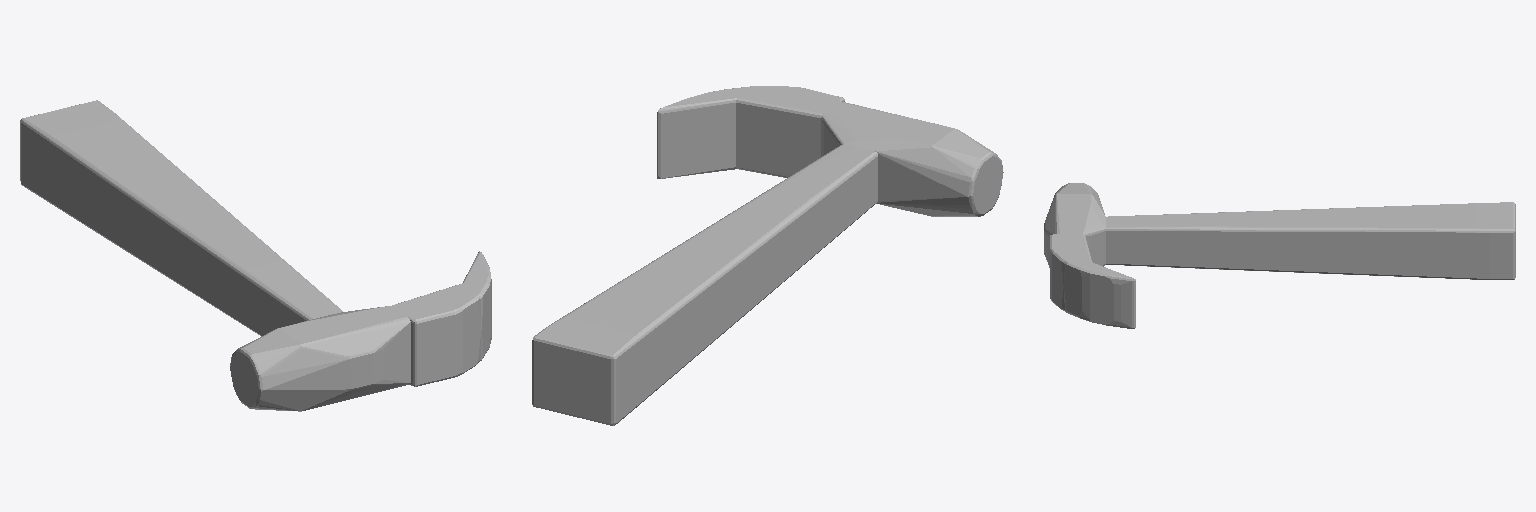
robot.urdf — root:
<robot name="root">
  <link name="link_coacd_convex_piece_0">
    <inertial>
      <origin xyz="0 0 0" rpy="0 0 0"/>
      <inertia ixx="1.12E-02" ixy="-1.80E-07" ixz="-1.51E-03" iyy="1.14E-02" iyz="-2.88E-07" izz="4.84E-04"/>
    </inertial>
    <visual>
      <origin xyz="0 0 0" rpy="0 0 0"/>
      <geometry>
        <mesh filename="coacd_convex_piece_0.obj" scale="1.0000E+00 1.0000E+00 1.0000E+00"/>
      </geometry>
      <material name="">
        <color rgba="7.50E-01 7.50E-01 7.50E-01 1"/>
      </material>
    </visual>
    <collision>
      <origin xyz="0 0 0" rpy="0 0 0"/>
      <geometry>
        <mesh filename="coacd_convex_piece_0.obj" scale="1.0000E+00 1.0000E+00 1.0000E+00"/>
      </geometry>
    </collision>
  </link>
  <link name="link_coacd_convex_piece_1">
    <inertial>
      <origin xyz="0 0 0" rpy="0 0 0"/>
      <inertia ixx="1.24E-03" ixy="2.74E-08" ixz="-6.75E-04" iyy="1.57E-03" iyz="5.83E-08" izz="3.50E-04"/>
    </inertial>
    <visual>
      <origin xyz="0 0 0" rpy="0 0 0"/>
      <geometry>
        <mesh filename="coacd_convex_piece_1.obj" scale="1.0000E+00 1.0000E+00 1.0000E+00"/>
      </geometry>
      <material name="">
        <color rgba="7.50E-01 7.50E-01 7.50E-01 1"/>
      </material>
    </visual>
    <collision>
      <origin xyz="0 0 0" rpy="0 0 0"/>
      <geometry>
        <mesh filename="coacd_convex_piece_1.obj" scale="1.0000E+00 1.0000E+00 1.0000E+00"/>
      </geometry>
    </collision>
  </link>
  <joint name="link_coacd_convex_piece_1_joint" type="fixed">
    <origin xyz="0 0 0" rpy="0 0 0"/>
    <parent link="link_coacd_convex_piece_0"/>
    <child link="link_coacd_convex_piece_1"/>
  </joint>
  <link name="link_coacd_convex_piece_2">
    <inertial>
      <origin xyz="0 0 0" rpy="0 0 0"/>
      <inertia ixx="3.70E-03" ixy="-3.37E-08" ixz="-8.25E-04" iyy="3.82E-03" iyz="4.25E-08" izz="1.72E-04"/>
    </inertial>
    <visual>
      <origin xyz="0 0 0" rpy="0 0 0"/>
      <geometry>
        <mesh filename="coacd_convex_piece_2.obj" scale="1.0000E+00 1.0000E+00 1.0000E+00"/>
      </geometry>
      <material name="">
        <color rgba="7.50E-01 7.50E-01 7.50E-01 1"/>
      </material>
    </visual>
    <collision>
      <origin xyz="0 0 0" rpy="0 0 0"/>
      <geometry>
        <mesh filename="coacd_convex_piece_2.obj" scale="1.0000E+00 1.0000E+00 1.0000E+00"/>
      </geometry>
    </collision>
  </link>
  <joint name="link_coacd_convex_piece_2_joint" type="fixed">
    <origin xyz="0 0 0" rpy="0 0 0"/>
    <parent link="link_coacd_convex_piece_1"/>
    <child link="link_coacd_convex_piece_2"/>
  </joint>
  <link name="link_coacd_convex_piece_3">
    <inertial>
      <origin xyz="0 0 0" rpy="0 0 0"/>
      <inertia ixx="9.19E-03" ixy="5.22E-07" ixz="2.23E-03" iyy="9.87E-03" iyz="-1.47E-06" izz="7.79E-04"/>
    </inertial>
    <visual>
      <origin xyz="0 0 0" rpy="0 0 0"/>
      <geometry>
        <mesh filename="coacd_convex_piece_3.obj" scale="1.0000E+00 1.0000E+00 1.0000E+00"/>
      </geometry>
      <material name="">
        <color rgba="7.50E-01 7.50E-01 7.50E-01 1"/>
      </material>
    </visual>
    <collision>
      <origin xyz="0 0 0" rpy="0 0 0"/>
      <geometry>
        <mesh filename="coacd_convex_piece_3.obj" scale="1.0000E+00 1.0000E+00 1.0000E+00"/>
      </geometry>
    </collision>
  </link>
  <joint name="link_coacd_convex_piece_3_joint" type="fixed">
    <origin xyz="0 0 0" rpy="0 0 0"/>
    <parent link="link_coacd_convex_piece_2"/>
    <child link="link_coacd_convex_piece_3"/>
  </joint>
</robot>

--- Facts derived from the render (not from the file) ---
Views: 3 orthographic renders of the robot side by side, from view 1: azimuth 30°, elevation 25°; view 2: azimuth 150°, elevation 25°; view 3: azimuth 270°, elevation 25°.
Robot: root — 4 links, 3 joints (3 fixed); root link link_coacd_convex_piece_0; default pose: every joint at zero.
Links seen in each view (by area): view 1: link_coacd_convex_piece_0, link_coacd_convex_piece_3, link_coacd_convex_piece_2, link_coacd_convex_piece_1; view 2: link_coacd_convex_piece_0, link_coacd_convex_piece_3, link_coacd_convex_piece_2, link_coacd_convex_piece_1; view 3: link_coacd_convex_piece_0, link_coacd_convex_piece_1, link_coacd_convex_piece_3, link_coacd_convex_piece_2.
Link boxes in pixels (box(x1,y1,x2,y2)): link_coacd_convex_piece_0: box(20, 100, 342, 336); link_coacd_convex_piece_3: box(230, 306, 410, 411); link_coacd_convex_piece_2: box(392, 283, 480, 386); link_coacd_convex_piece_1: box(463, 251, 491, 360); link_coacd_convex_piece_0: box(532, 144, 877, 425); link_coacd_convex_piece_3: box(821, 101, 1003, 216); link_coacd_convex_piece_2: box(736, 86, 844, 177); link_coacd_convex_piece_1: box(657, 86, 752, 178); link_coacd_convex_piece_0: box(1106, 202, 1515, 279); link_coacd_convex_piece_1: box(1064, 262, 1135, 328); link_coacd_convex_piece_3: box(1044, 183, 1105, 267); link_coacd_convex_piece_2: box(1050, 233, 1091, 311).
Bounding box of the posed robot: 0.9166 × 1.79 × 0.2145 m (x, y, z).
Meshes: 4 distinct files referenced, 4 mesh visuals loaded (4 OBJ).
